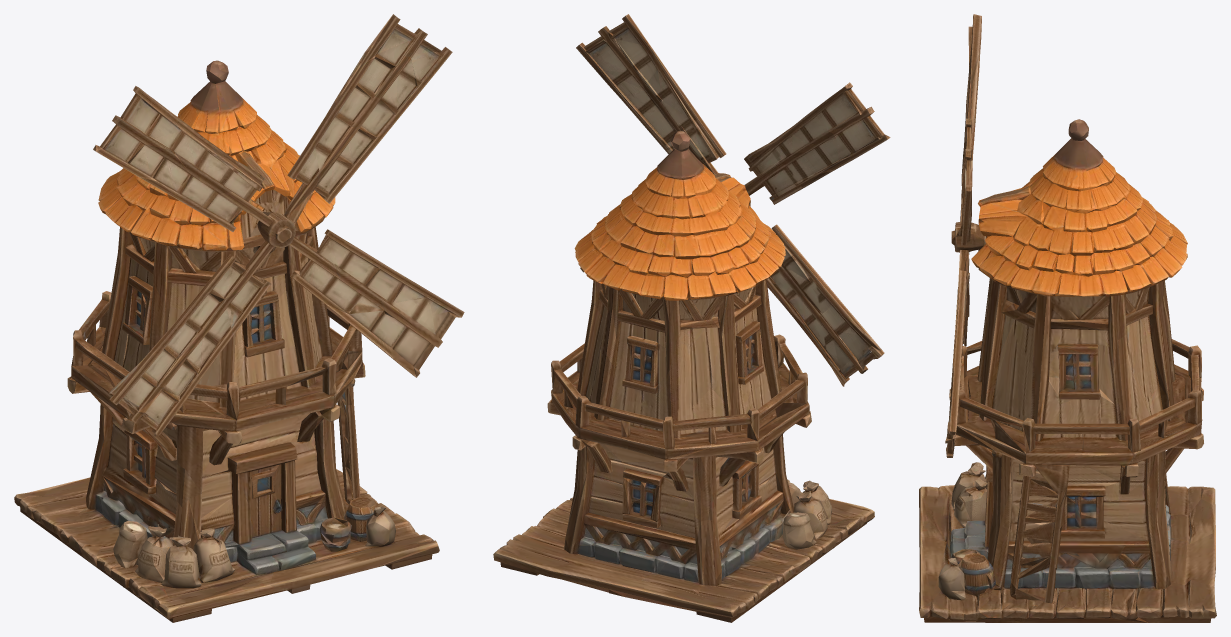
The model's file is camp_moulin.glb.
The picture shows the model from 3 angles, left to right: view 1: azimuth 30°, elevation 25°; view 2: azimuth 150°, elevation 25°; view 3: azimuth 270°, elevation 25°; orthographic projection. The views are drawn at different scales.
Bounding box in the file's own units: 1.34 × 1.9 × 1.03.
1 material, 1 textured.
